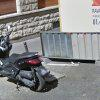Motorcycle: (0, 31, 53, 98)
